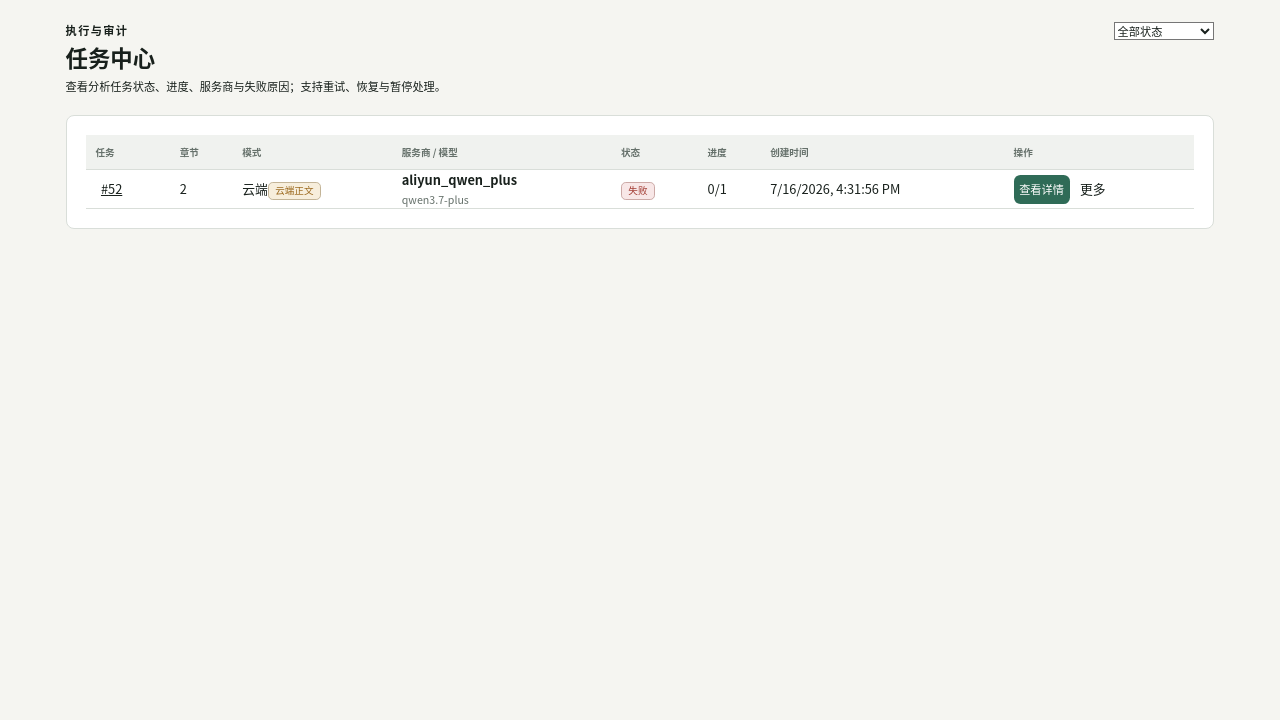
Test: TasksPage 传输错误展示 › 显示retryable与旧错误提示
Click the button "查看详情" at {"x": 1042, "y": 189}, box [1014,175,1070,204]
(page scrolled)
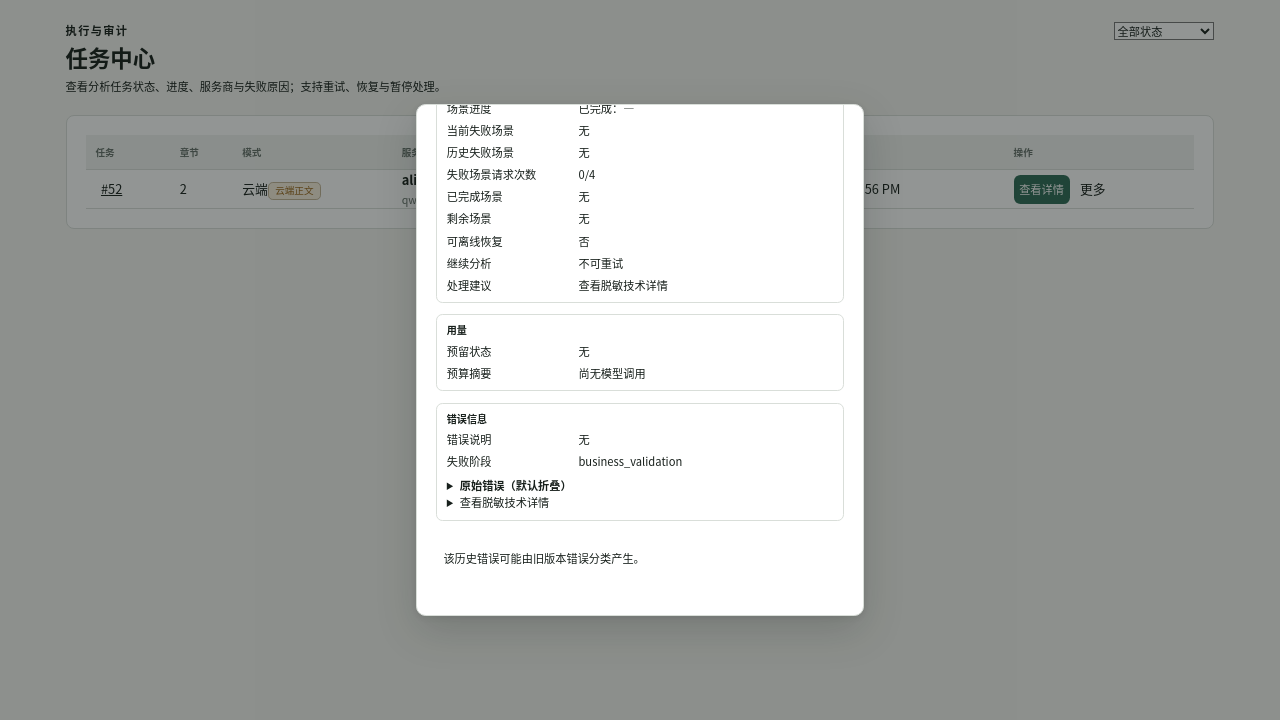
Expected: the text "不可重试" is shown, [578,255,623,271]
Expected: the text "该历史错误可能由旧版本错误分类产生。" is shown, [443,550,645,566]
